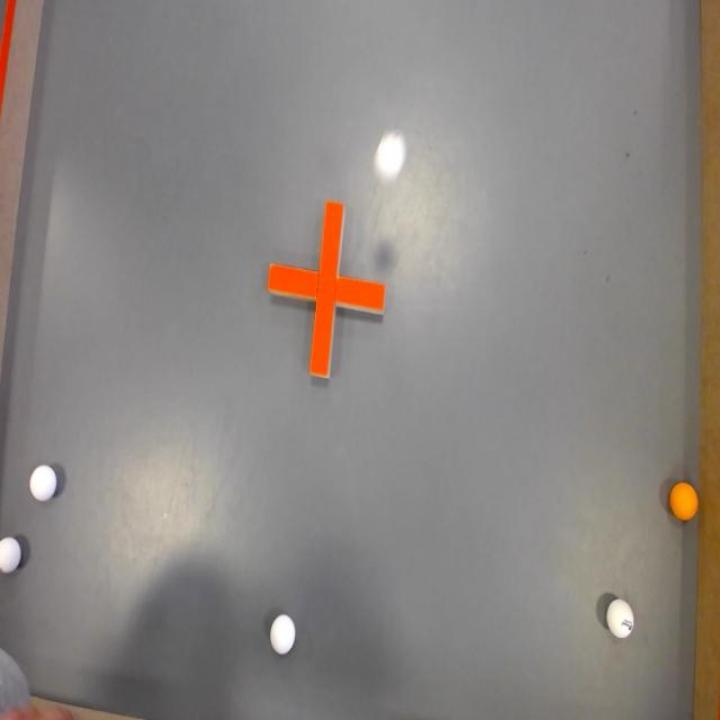orange: (669, 476, 699, 528)
white: (373, 123, 410, 184), (602, 593, 642, 645), (30, 456, 60, 508), (269, 608, 297, 656), (0, 533, 24, 575)
